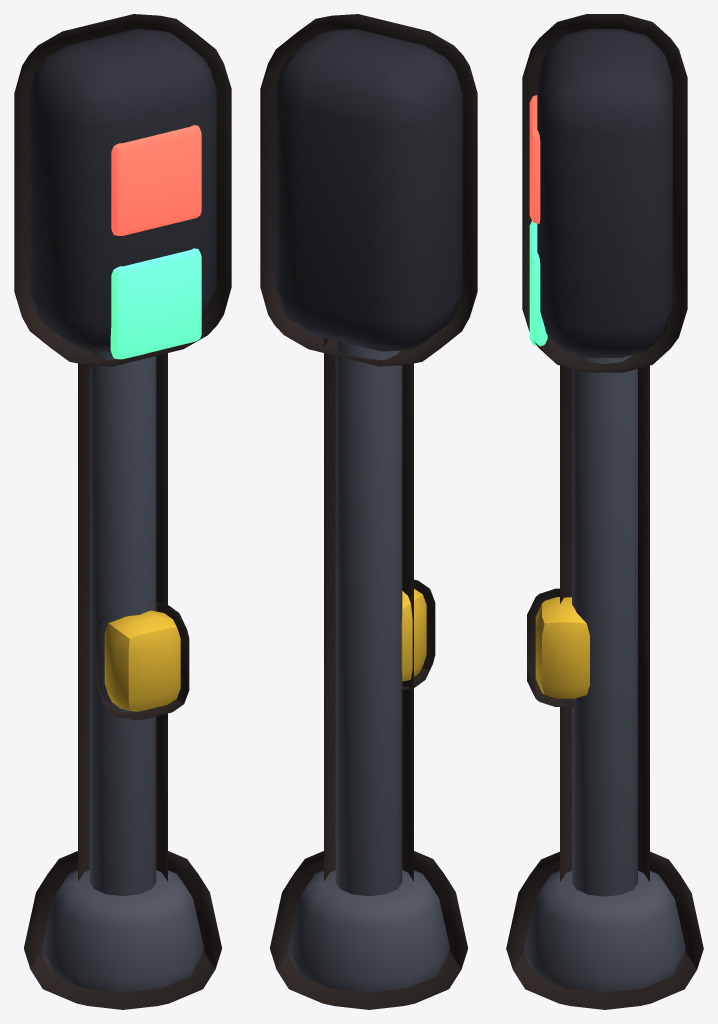
Rendered from PedLight.fbx.
The picture shows the model from 3 angles, left to right: view 1: azimuth 30°, elevation 25°; view 2: azimuth 150°, elevation 25°; view 3: azimuth 270°, elevation 25°; orthographic projection.
Parts seen in each view (by area): view 1: PR_PedLight_Metal, PR_PedLight_Black, PR_PedLight_Outline, PR_PedLight_PedGreen, PR_PedLight_PedRed, PR_PedLight_Yellow; view 2: PR_PedLight_Black, PR_PedLight_Metal, PR_PedLight_Outline, PR_PedLight_Yellow; view 3: PR_PedLight_Metal, PR_PedLight_Black, PR_PedLight_Outline, PR_PedLight_Yellow, PR_PedLight_PedGreen, PR_PedLight_PedRed.
Part boxes in pixels (x1,y1,x2,y2): PR_PedLight_Metal: (42,350,203,992); PR_PedLight_Black: (29,29,216,351); PR_PedLight_Outline: (14,14,231,1009); PR_PedLight_PedGreen: (110,248,201,359); PR_PedLight_PedRed: (111,125,201,235); PR_PedLight_Yellow: (104,610,180,711); PR_PedLight_Black: (275,29,462,351); PR_PedLight_Metal: (288,340,449,992); PR_PedLight_Outline: (260,14,477,1009); PR_PedLight_Yellow: (401,588,426,681); PR_PedLight_Metal: (524,355,685,992); PR_PedLight_Black: (537,29,672,357); PR_PedLight_Outline: (506,14,703,1009); PR_PedLight_Yellow: (535,597,589,698); PR_PedLight_PedGreen: (529,221,547,346); PR_PedLight_PedRed: (529,95,540,223).
Bounding box in the file's own units: 0.6983 × 3.46 × 0.6564.
